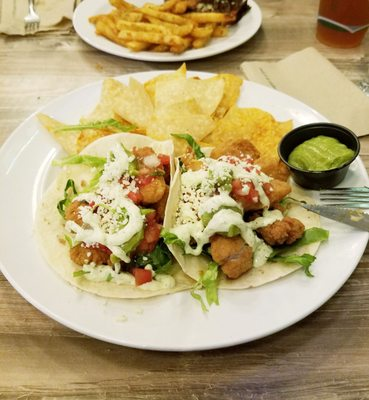pizza: (313, 0, 368, 63)
sushi: (278, 122, 361, 190)
